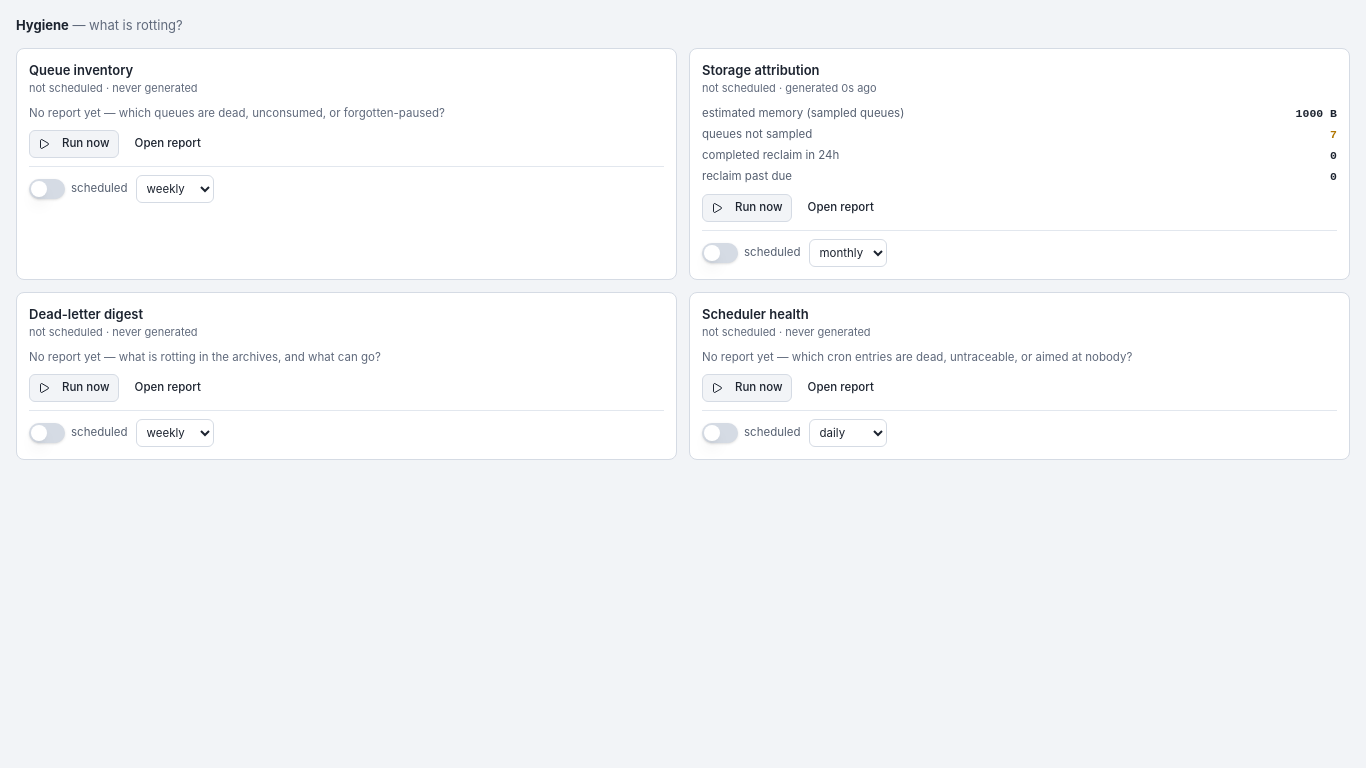
it: storage honesty › labels unsampled queues as 'not sampled' and renders the method verbatim
The image size is (1366, 768).
Expected: the heading "Storage attribution" is shown, [702,62,820,78]
Click the button "Open report" below "reclaim past due" at (841, 208), box [800,194,882,222]
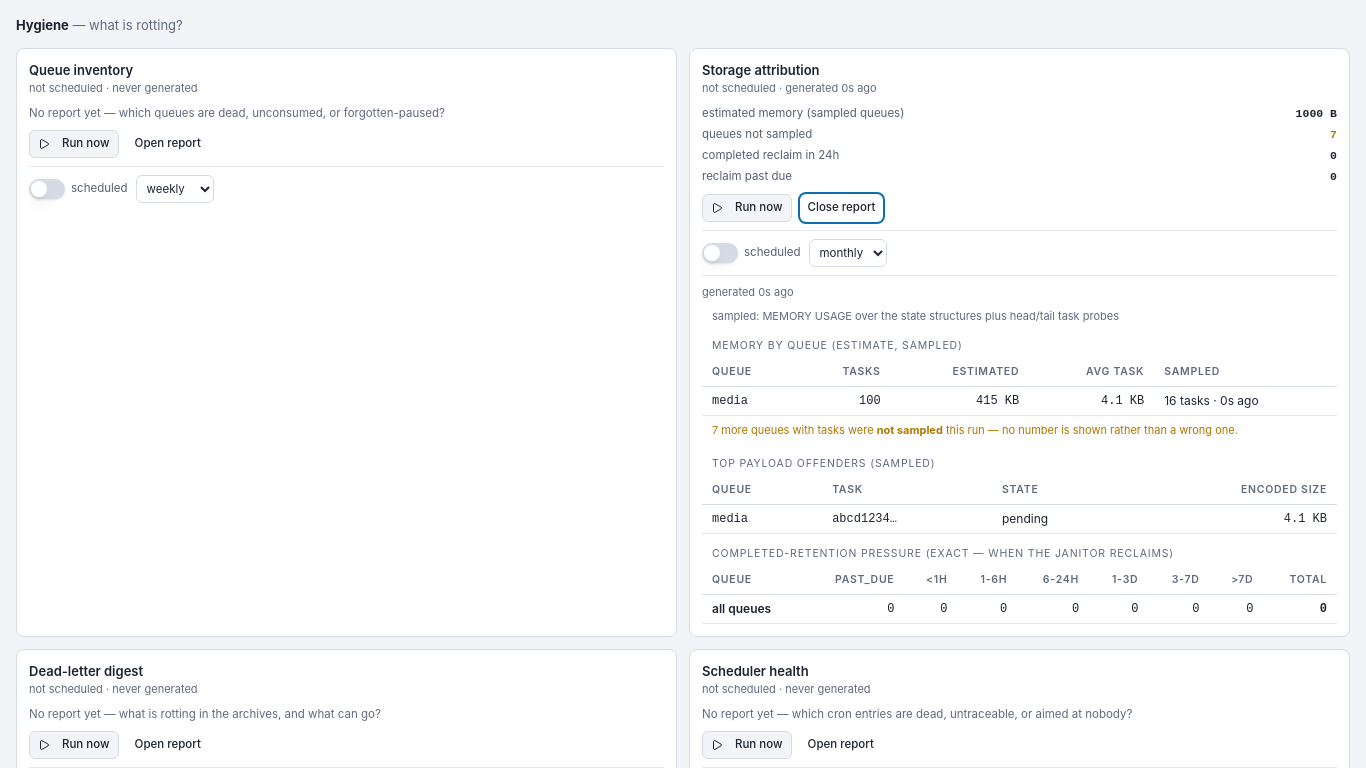
Expected: the text "7 more queues with tasks were" is shown, [712,423,1238,437]
Expected: the text "not sampled" is shown, [877,423,943,437]
Expected: the text "MEMORY USAGE over the state structures" is shown, [712,309,1119,323]
